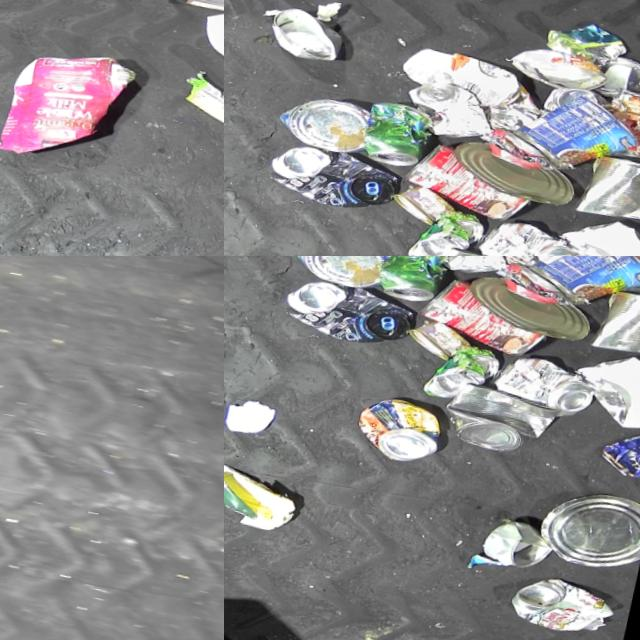can: (507, 87, 640, 187), (401, 137, 544, 229), (416, 272, 559, 364), (265, 137, 406, 219), (280, 272, 421, 354), (441, 378, 569, 463), (449, 138, 586, 212), (464, 273, 601, 347), (536, 484, 640, 579), (491, 351, 604, 425), (509, 571, 625, 640), (522, 256, 640, 322), (354, 392, 451, 469), (401, 79, 503, 148), (275, 90, 375, 159), (506, 45, 615, 100), (360, 101, 438, 174), (424, 341, 506, 409), (261, 2, 348, 66), (575, 152, 640, 229), (476, 215, 588, 256), (486, 517, 563, 576), (408, 205, 491, 256), (374, 256, 453, 308), (590, 287, 640, 364), (289, 256, 390, 293), (391, 181, 463, 232), (406, 316, 478, 367), (602, 89, 640, 171), (597, 417, 640, 485), (415, 256, 517, 282), (543, 86, 614, 123), (594, 55, 640, 105)
